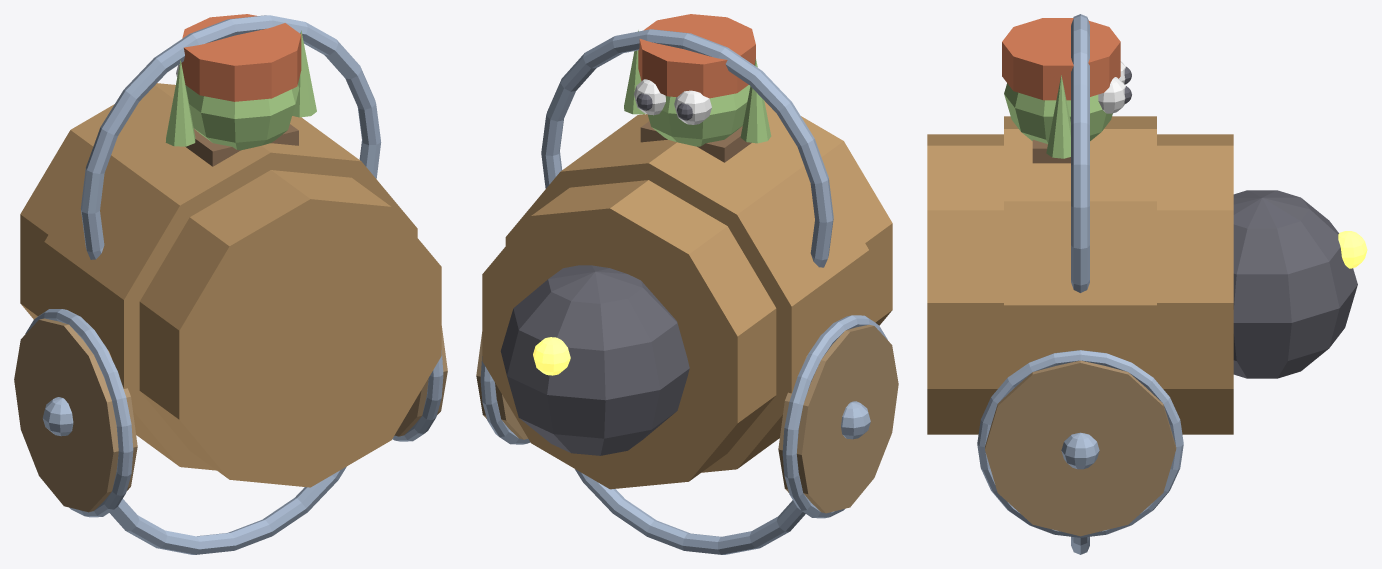
The model's file is goblin_demolisher.glb.
The picture shows the model from 3 angles, left to right: view 1: azimuth 30°, elevation 25°; view 2: azimuth 150°, elevation 25°; view 3: azimuth 270°, elevation 25°; orthographic projection. The views are drawn at different scales.
Parts seen in each view (by area): view 1: goblin_demolisher; view 2: goblin_demolisher; view 3: goblin_demolisher.
Part boxes in pixels (<box>): goblin_demolisher: <box>14,14,447,554</box>; goblin_demolisher: <box>476,14,898,554</box>; goblin_demolisher: <box>927,14,1367,554</box>.
Size of the model in its own units: 2.15 by 2.95 by 2.3.
